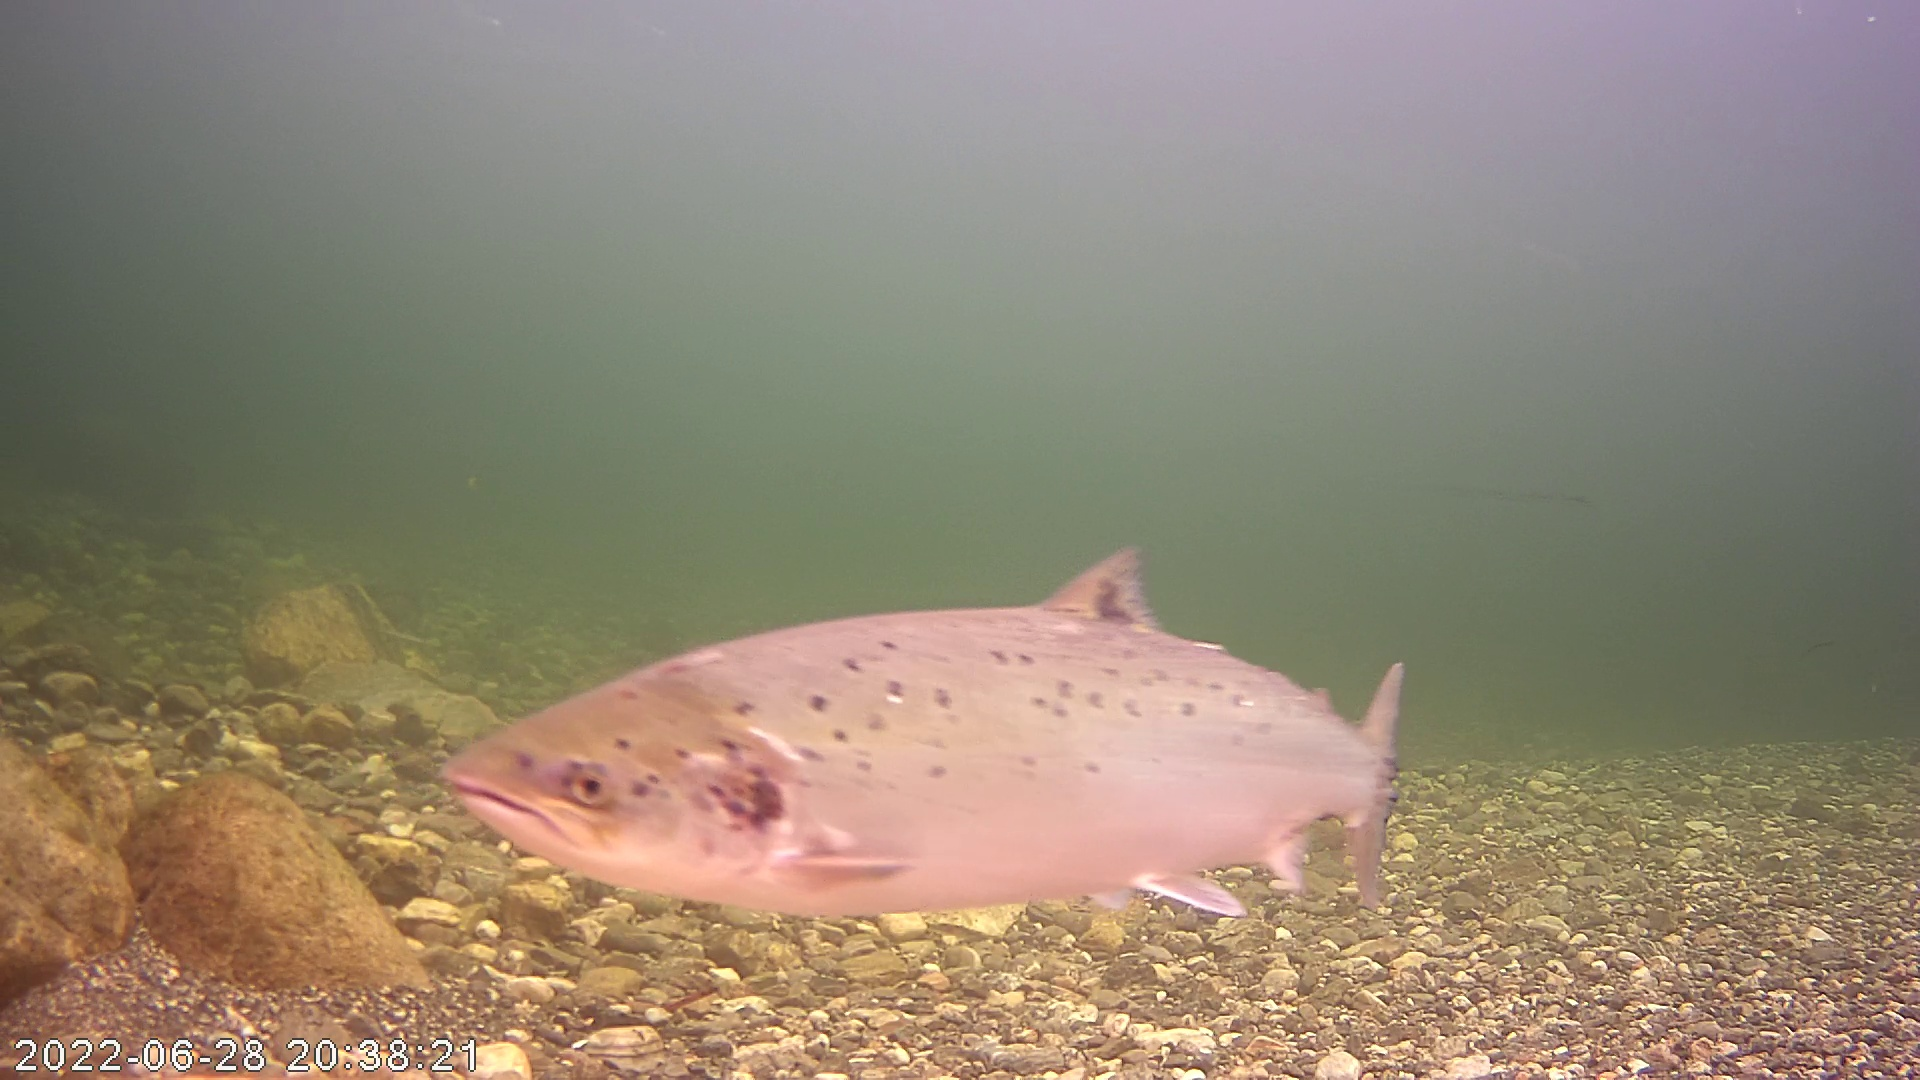salmon: (425, 520, 1408, 938)
